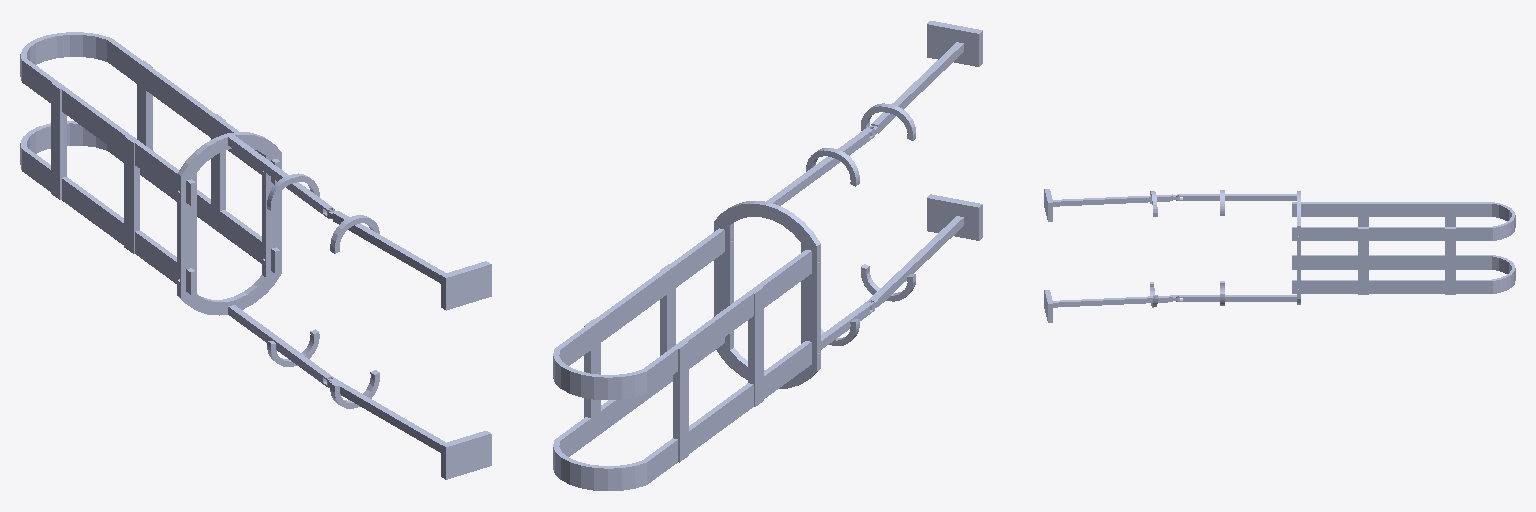
URDF robot description (Assem_Exoskeleton_D):
<?xml version="1.0" encoding="utf-8"?>
<!-- This URDF was automatically created by SolidWorks to URDF Exporter! Originally created by [author] ([email redacted]) 
     Commit Version: 1.6.0-4-g7f85cfe  Build Version: 1.6.7995.38578
     For more information, please see http://wiki.ros.org/sw_urdf_exporter -->
<robot
  name="Assem_Exoskeleton_D">
  <link
    name="base_link">
    <inertial>
      <origin
        xyz="1.37103262687344E-06 0.164172678170953 -3.80184492665414E-06"
        rpy="0 0 0" />
      <mass
        value="1.82093555199184" />
      <inertia
        ixx="0.056954416448482"
        ixy="-1.33195224757356E-07"
        ixz="1.99678862346339E-07"
        iyy="0.0220337333954357"
        iyz="3.64910739636348E-07"
        izz="0.0524012212962204" />
    </inertial>
    <visual>
      <origin
        xyz="0 0 0"
        rpy="0 0 0" />
      <geometry>
        <mesh
          filename="package://Assem_Exoskeleton_D/meshes/base_link.STL" />
      </geometry>
      <material
        name="">
        <color
          rgba="0.792156862745098 0.819607843137255 0.933333333333333 1" />
      </material>
    </visual>
    <collision>
      <origin
        xyz="0 0 0"
        rpy="0 0 0" />
      <geometry>
        <mesh
          filename="package://Assem_Exoskeleton_D/meshes/base_link.STL" />
      </geometry>
    </collision>
  </link>
  <link
    name="torso">
    <inertial>
      <origin
        xyz="-0.0749983384867037 -0.0120195904691445 -4.52222929370194E-06"
        rpy="0 0 0" />
      <mass
        value="1.50258325280847" />
      <inertia
        ixx="0.0489048969630911"
        ixy="-1.59292332467414E-18"
        ixz="1.99656733004881E-07"
        iyy="0.0183916479519112"
        iyz="-2.28073038421911E-17"
        izz="0.0478559206589499" />
    </inertial>
    <visual>
      <origin
        xyz="0 0 0"
        rpy="0 0 0" />
      <geometry>
        <mesh
          filename="package://Assem_Exoskeleton_D/meshes/torso.STL" />
      </geometry>
      <material
        name="">
        <color
          rgba="0.792156862745098 0.819607843137255 0.933333333333333 1" />
      </material>
    </visual>
    <collision>
      <origin
        xyz="0 0 0"
        rpy="0 0 0" />
      <geometry>
        <mesh
          filename="package://Assem_Exoskeleton_D/meshes/torso.STL" />
      </geometry>
    </collision>
  </link>
  <joint
    name="waist"
    type="fixed">
    <origin
      xyz="0.0750000000000001 0.254794940549618 0"
      rpy="0 0 0" />
    <parent
      link="base_link" />
    <child
      link="torso" />
    <axis
      xyz="0 0 0" />
  </joint>
  <link
    name="legs">
    <inertial>
      <origin
        xyz="-0.0475708550689431 0.452378880076549 -0.152696281588907"
        rpy="0 0 0" />
      <mass
        value="1.98187710214039" />
      <inertia
        ixx="0.0566058228543134"
        ixy="0.00369899915401259"
        ixz="1.59535357549668E-07"
        iyy="0.0225898933355189"
        iyz="3.84161379725272E-07"
        izz="0.0525168230432727" />
    </inertial>
    <visual>
      <origin
        xyz="0 0 0"
        rpy="0 0 0" />
      <geometry>
        <mesh
          filename="package://Assem_Exoskeleton_D/meshes/legs.STL" />
      </geometry>
      <material
        name="">
        <color
          rgba="0.792156862745098 0.819607843137255 0.933333333333333 1" />
      </material>
    </visual>
    <collision>
      <origin
        xyz="0 0 0"
        rpy="0 0 0" />
      <geometry>
        <mesh
          filename="package://Assem_Exoskeleton_D/meshes/legs.STL" />
      </geometry>
    </collision>
  </link>
  <joint
    name="knee"
    type="revolute">
    <origin
      xyz="0 -0.337499999999995 0.152692593015922"
      rpy="0 0 0" />
    <parent
      link="base_link" />
    <child
      link="legs" />
    <axis
      xyz="0 0 -1" />
    <limit
      lower="0"
      upper="0"
      effort="0"
      velocity="0" />
  </joint>
</robot>

--- Render facts (derived) ---
Views: 3 orthographic renders of the robot side by side, from view 1: azimuth 30°, elevation 25°; view 2: azimuth 150°, elevation 25°; view 3: azimuth 270°, elevation 25°.
Model Assem_Exoskeleton_D with 3 links and 2 joints (1 revolute, 1 fixed), rooted at base_link, posed all joints at 0.
Links seen in each view (by area): view 1: torso, base_link, legs; view 2: torso, base_link, legs; view 3: torso, legs, base_link.
Boxes of the visible links, <box> form: torso: <box>20,32,280,294</box>; base_link: <box>177,132,334,387</box>; legs: <box>327,211,491,479</box>; torso: <box>553,228,811,490</box>; base_link: <box>714,126,874,388</box>; legs: <box>861,21,982,309</box>; torso: <box>1292,202,1515,294</box>; legs: <box>1044,189,1179,322</box>; base_link: <box>1176,190,1300,305</box>.
Size in the robot's own frame: 0.1924 by 1.29 by 0.3639 metres.
Meshes: 3 distinct files referenced, 3 mesh visuals loaded (3 binary STL).
